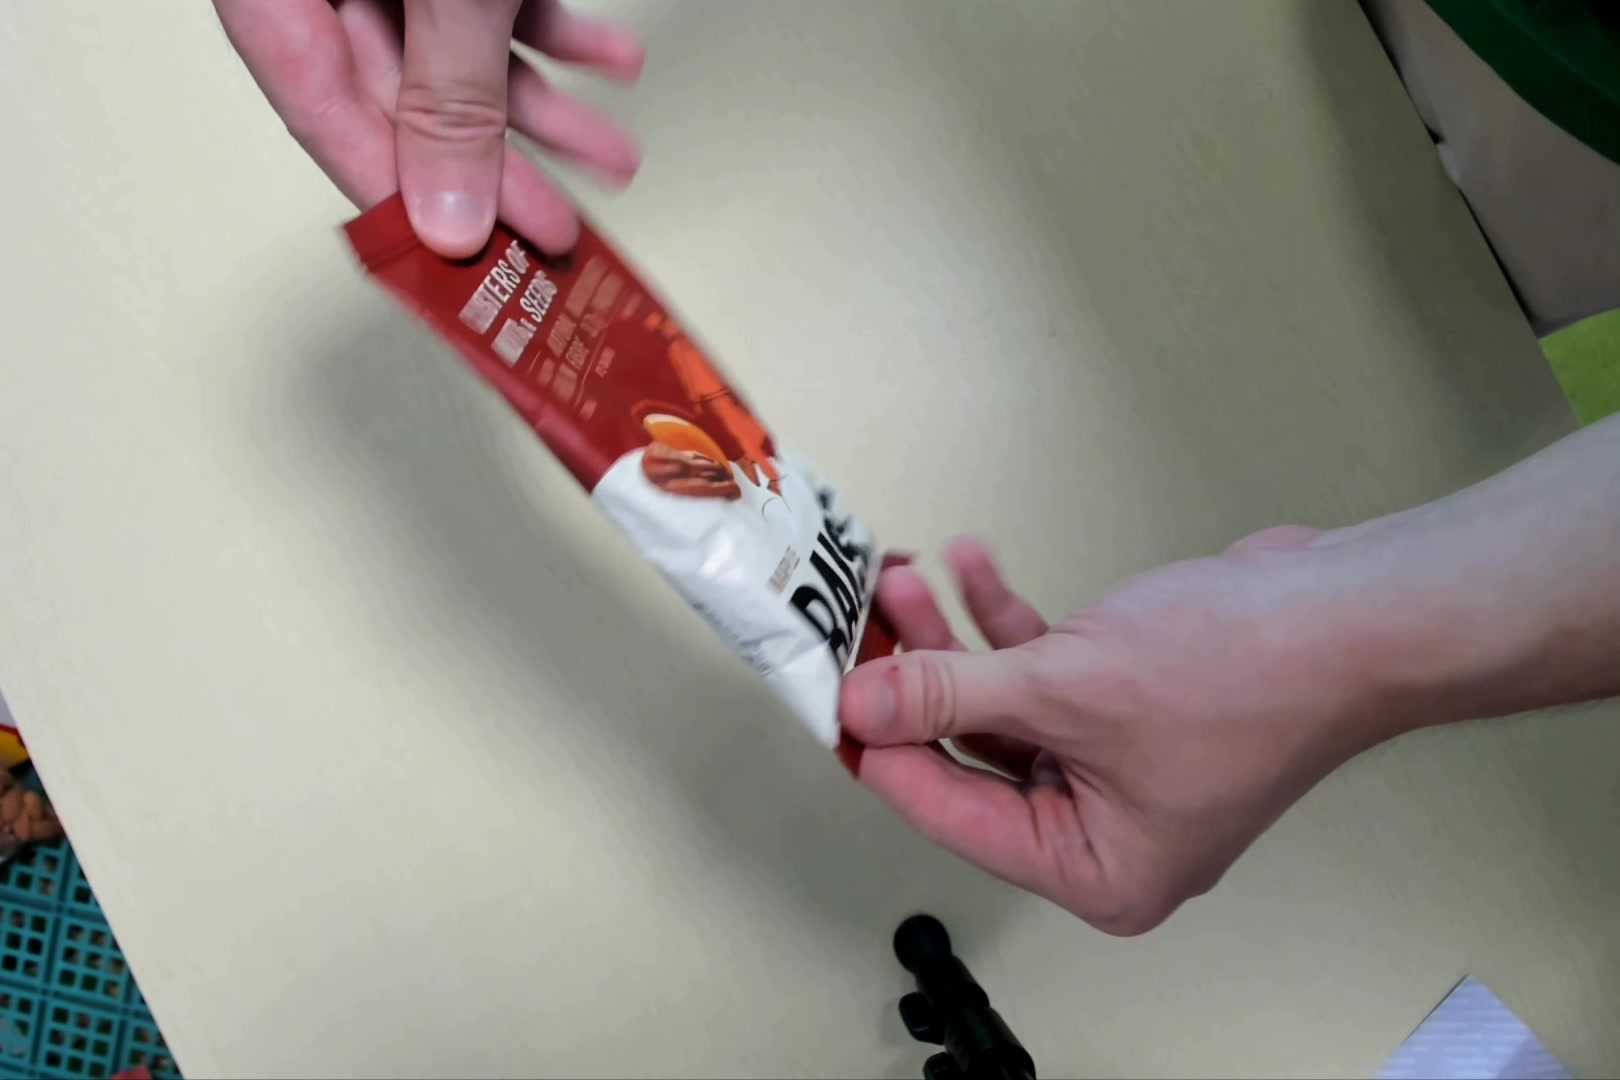Nuts_0-99g_NonHalal_NonHealthy: (337, 155, 910, 779)
